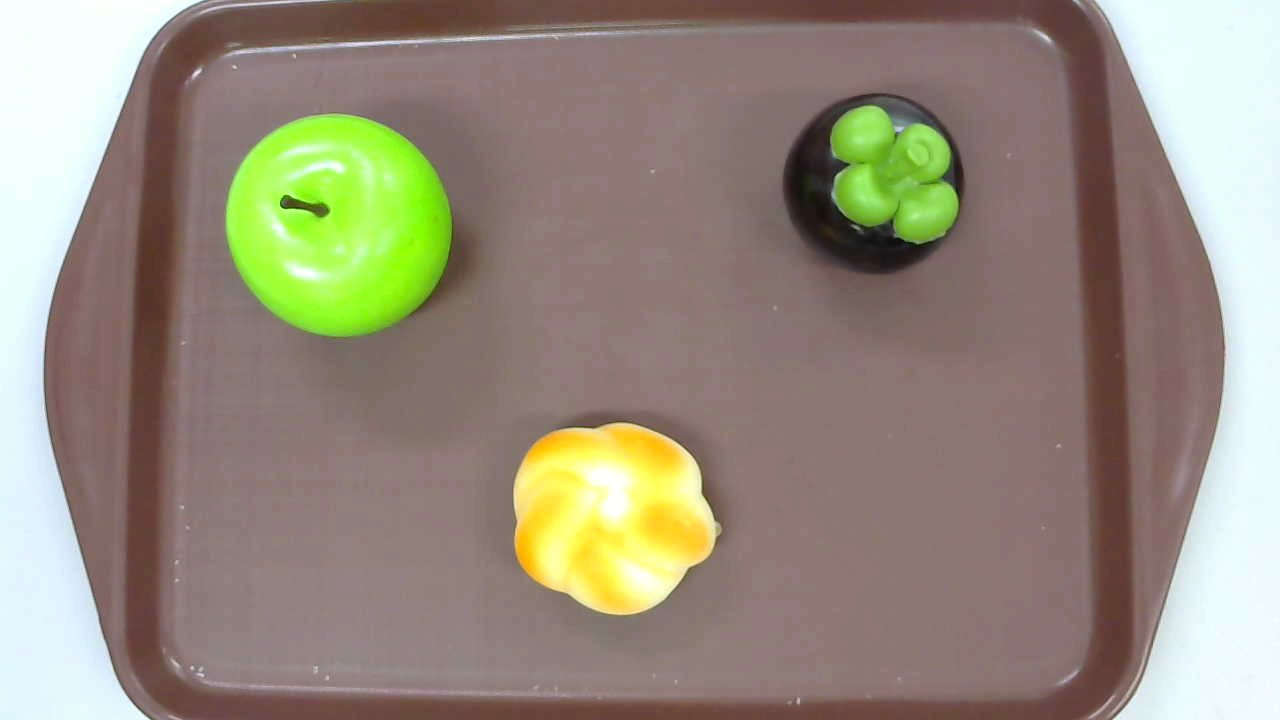green apple: (225, 113, 451, 340)
mangosteen: (783, 92, 966, 278)
twist bread: (512, 422, 722, 616)
